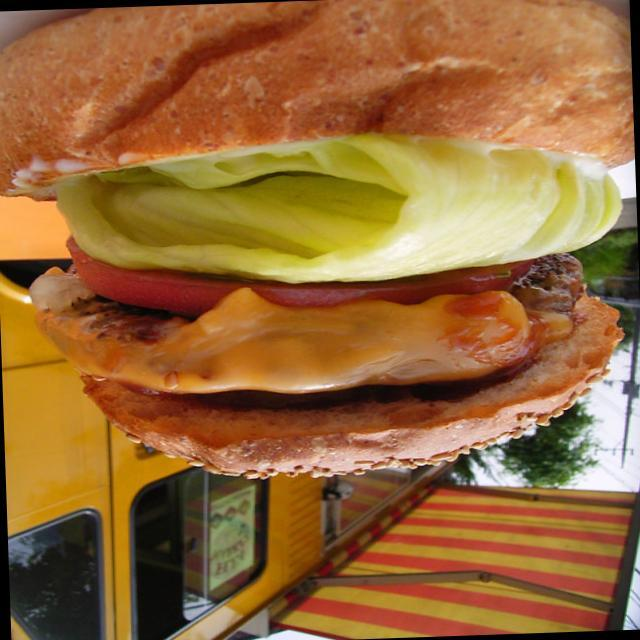Green Salad: (17, 0, 640, 515)
